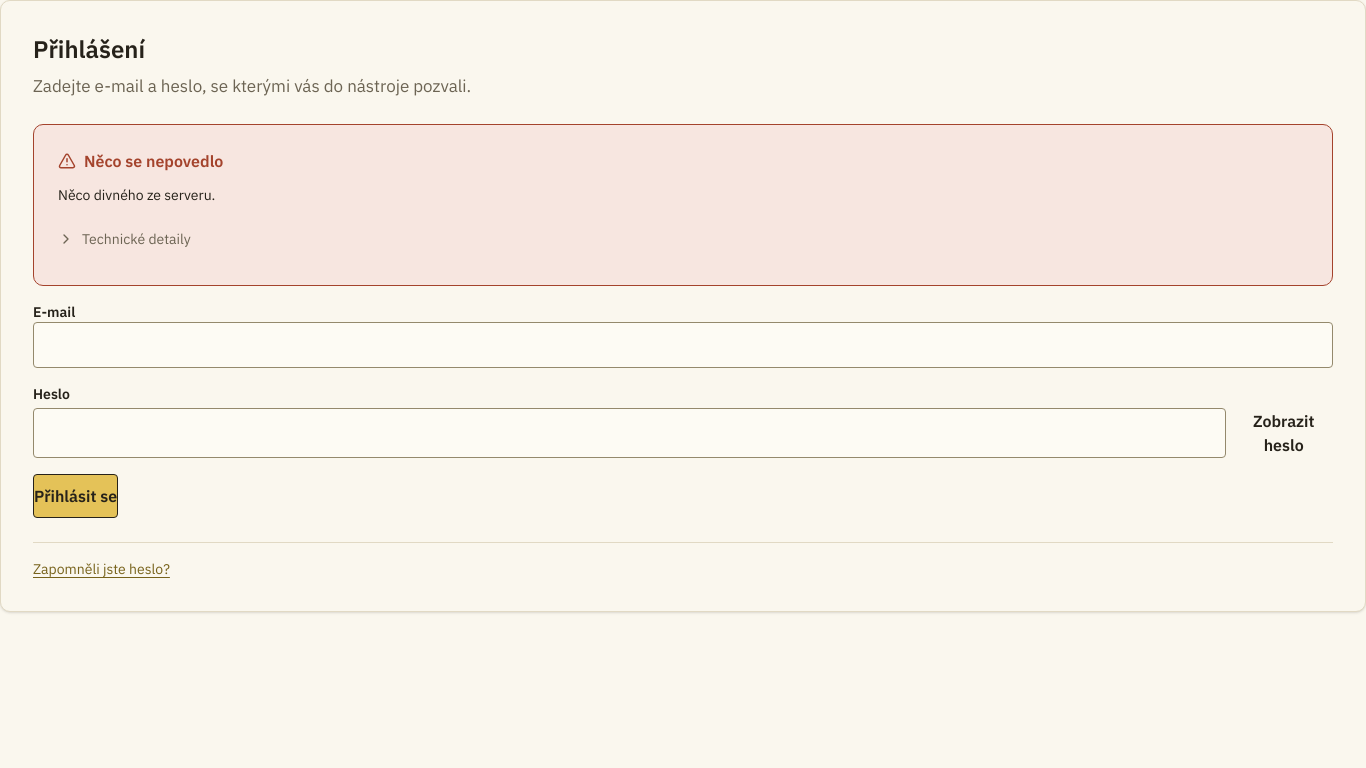
Scenario: LoginForm › u neznámého kódu ukáže detail ze serveru, ne prázdno
Expected: the text "Něco divného ze serveru." is shown, [58, 186, 215, 204]
Click the button "Technické detaily": (124, 239) [58, 217, 191, 261]
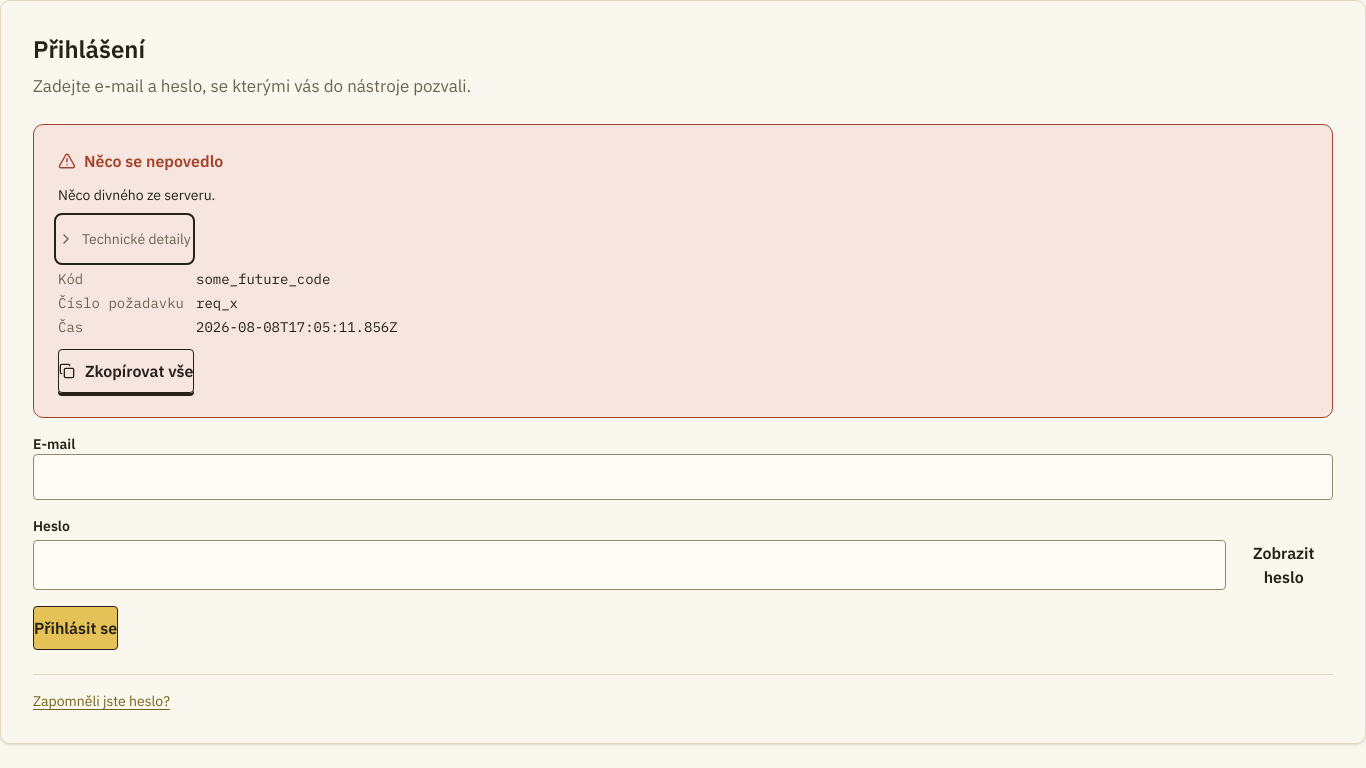
Result: the text "req_x" is shown at [196, 294, 238, 312]
